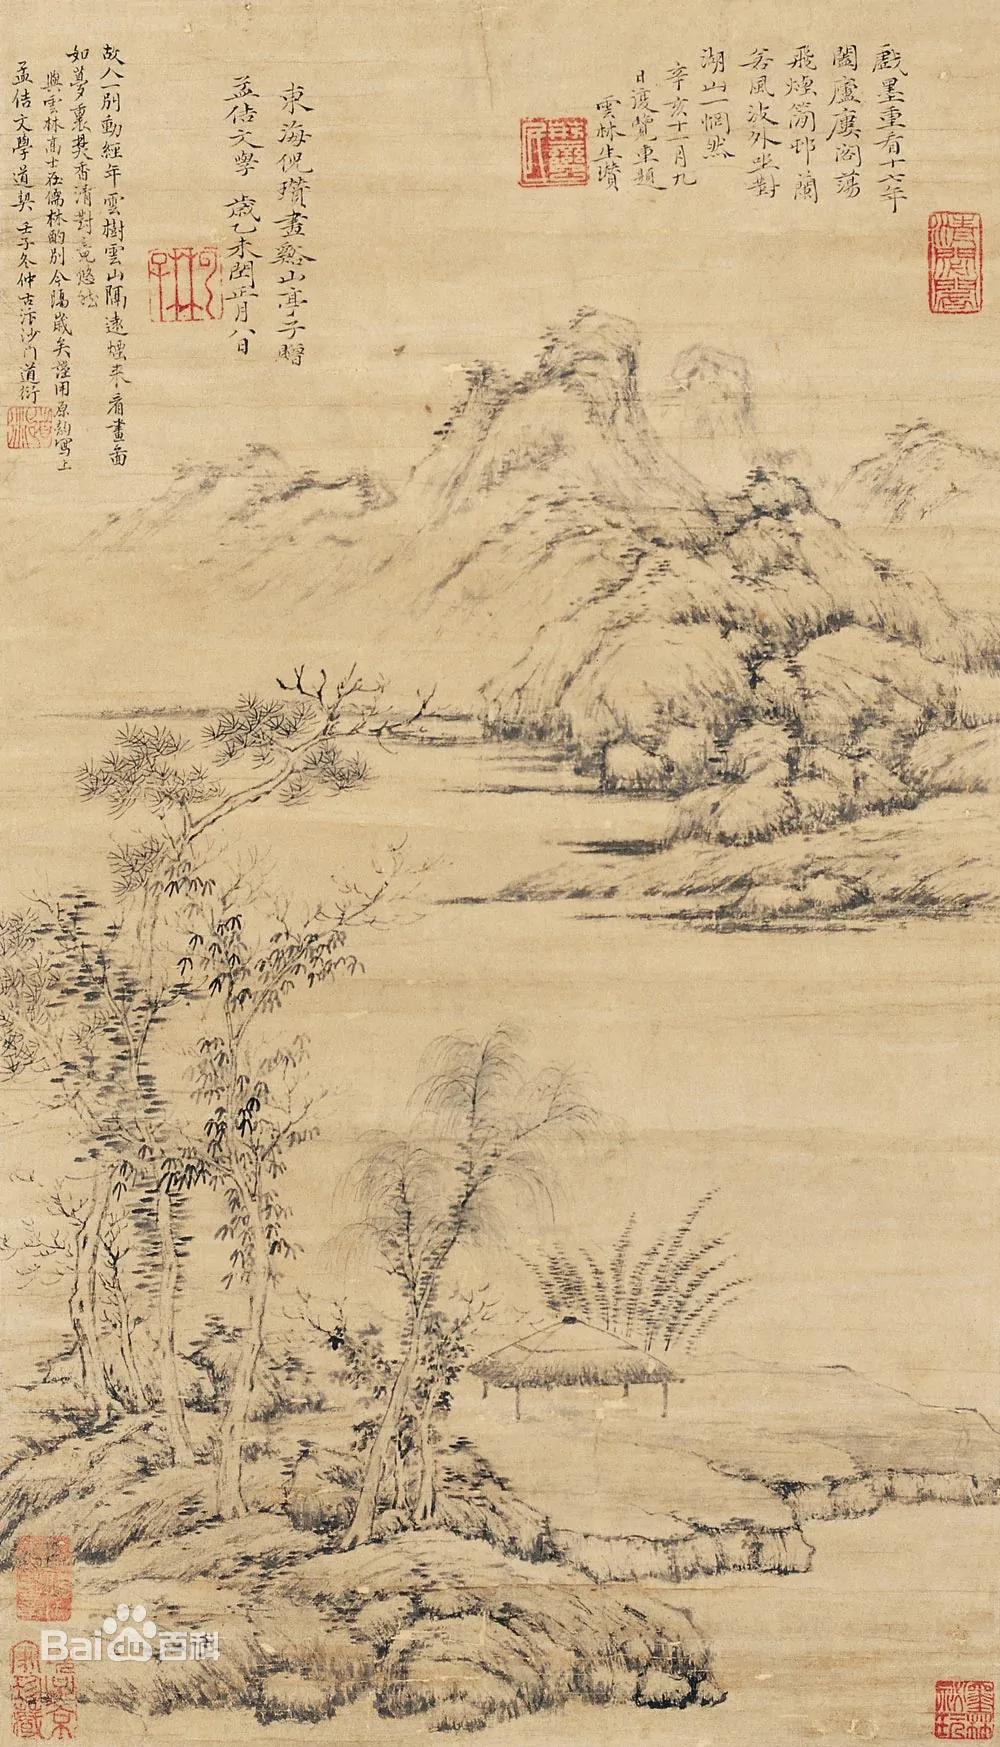bamboo: (157, 888, 329, 1529)
booth: (468, 1298, 685, 1442)
mountain: (455, 280, 659, 509)
pine: (84, 686, 388, 879)
range: (170, 431, 1000, 623), (527, 319, 691, 754)
tree: (26, 873, 198, 1509), (341, 1015, 537, 1515)
